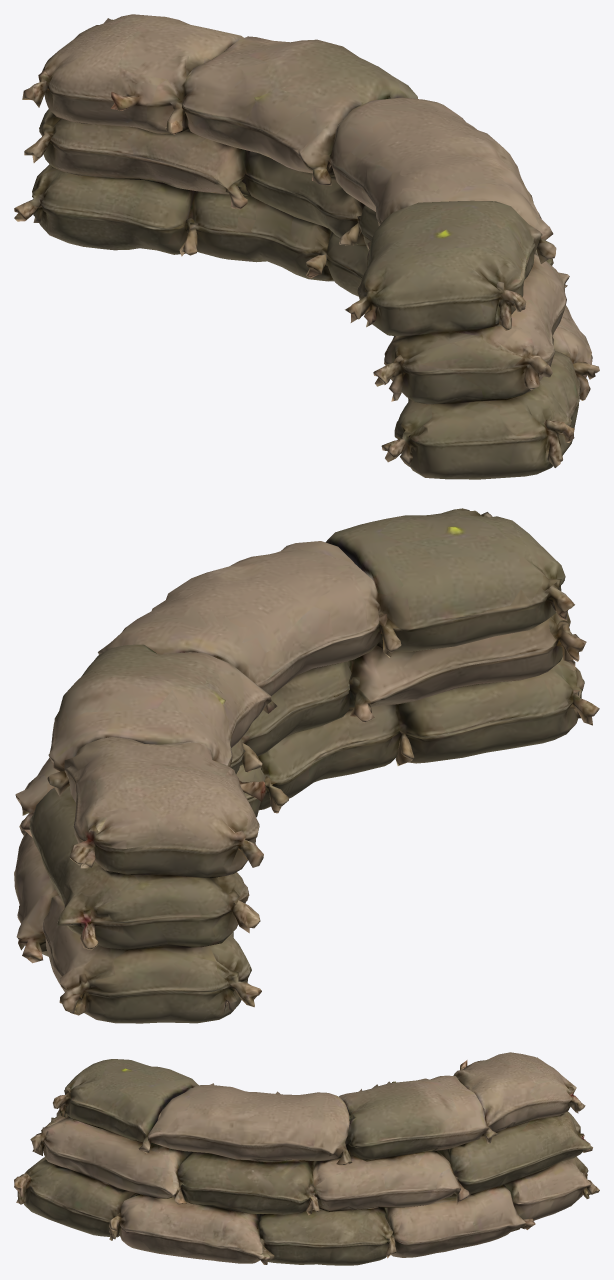
The model's file is sandbags.glb.
The picture shows the model from 3 angles, top to bottom: view 1: azimuth 30°, elevation 25°; view 2: azimuth 150°, elevation 25°; view 3: azimuth 270°, elevation 25°; orthographic projection. The views are drawn at different scales.
Visible parts, largest first — view 1: tripo_node_fdd6f32e-e205-4f1b-b15f-dab0eaea120b; view 2: tripo_node_fdd6f32e-e205-4f1b-b15f-dab0eaea120b; view 3: tripo_node_fdd6f32e-e205-4f1b-b15f-dab0eaea120b.
Boxes of the visible parts, x1=… form: tripo_node_fdd6f32e-e205-4f1b-b15f-dab0eaea120b: x1=14, y1=14, x2=599, y2=479; tripo_node_fdd6f32e-e205-4f1b-b15f-dab0eaea120b: x1=14, y1=508, x2=599, y2=1023; tripo_node_fdd6f32e-e205-4f1b-b15f-dab0eaea120b: x1=14, y1=1052, x2=599, y2=1265.
Bounding box in the file's own units: 0.4316 × 0.2717 × 0.9799.
1 material, 1 textured.
